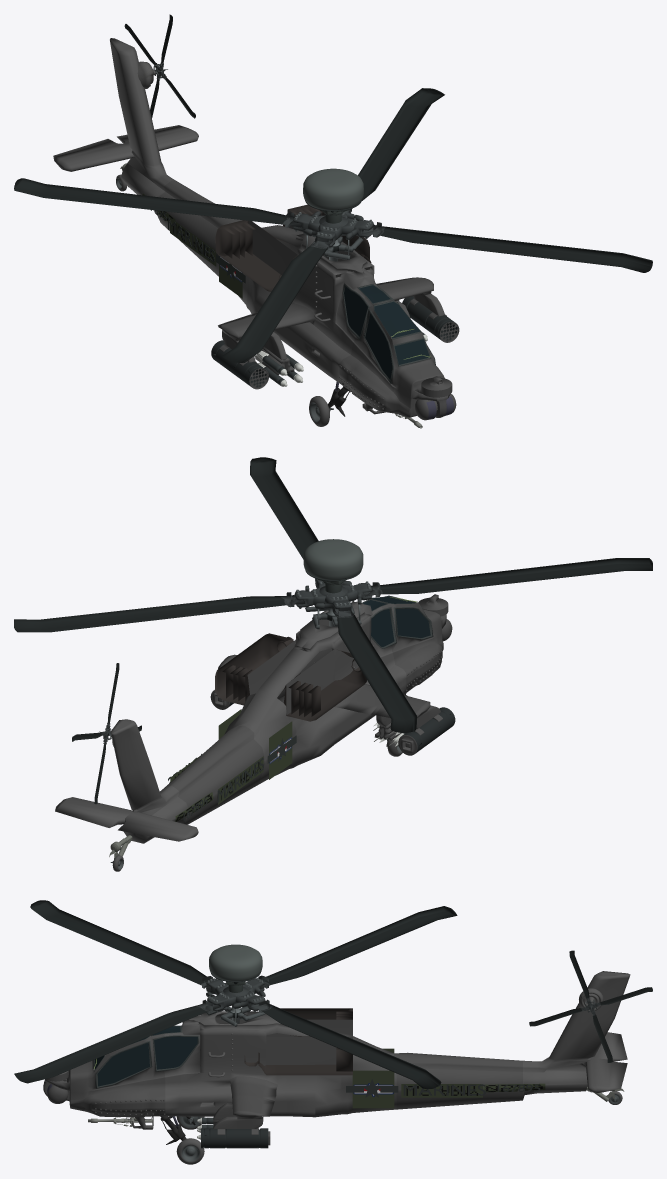
The model's file is apache_v2.glb.
3 views of the same model, one above another, from view 1: azimuth 30°, elevation 25°; view 2: azimuth 150°, elevation 25°; view 3: azimuth 270°, elevation 25° (orthographic). The views are drawn at different scales.
Parts seen in each view (by area): view 1: BODY, Cylinder.010, BODY.001, Longbow_v2_Radome, Cylinder.012, Decal_Text_L; view 2: BODY, Cylinder.010, Longbow_v2_Radome, BODY.001, Decal_Star_L, Cylinder.012; view 3: BODY, Cylinder.010, Longbow_v2_Radome, Decal_Star_R, BODY.001, Cylinder.012, Decal_Text_R, Cylinder.008, USMC_MARINES_R, USMC_Insignia_R, TailNum_R.
Boxes of the visible parts, x1,y1,x2,y2 form: BODY: [53, 38, 456, 420]; Cylinder.010: [14, 88, 652, 362]; BODY.001: [211, 296, 459, 389]; Longbow_v2_Radome: [303, 168, 363, 210]; Cylinder.012: [124, 14, 195, 118]; Decal_Text_L: [170, 217, 216, 266]; BODY: [55, 594, 452, 843]; Cylinder.010: [14, 457, 652, 733]; Longbow_v2_Radome: [303, 539, 363, 580]; BODY.001: [210, 690, 455, 755]; Decal_Star_L: [269, 721, 292, 779]; Cylinder.012: [72, 663, 141, 804]; BODY: [43, 971, 630, 1144]; Cylinder.010: [14, 900, 457, 1089]; Longbow_v2_Radome: [209, 944, 262, 981]; Decal_Star_R: [352, 1070, 394, 1108]; BODY.001: [201, 1128, 270, 1148]; Cylinder.012: [529, 950, 652, 1062]; Decal_Text_R: [401, 1084, 482, 1097]; Cylinder.008: [176, 1138, 204, 1164]; USMC_MARINES_R: [403, 1084, 485, 1095]; USMC_Insignia_R: [346, 1079, 398, 1097]; TailNum_R: [483, 1083, 545, 1092].
Bounding box in the file's own units: 6.46 × 3.34 × 9.3.
39 materials, 12 textured.
